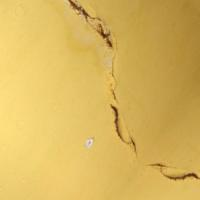crack: (66, 2, 195, 186)
